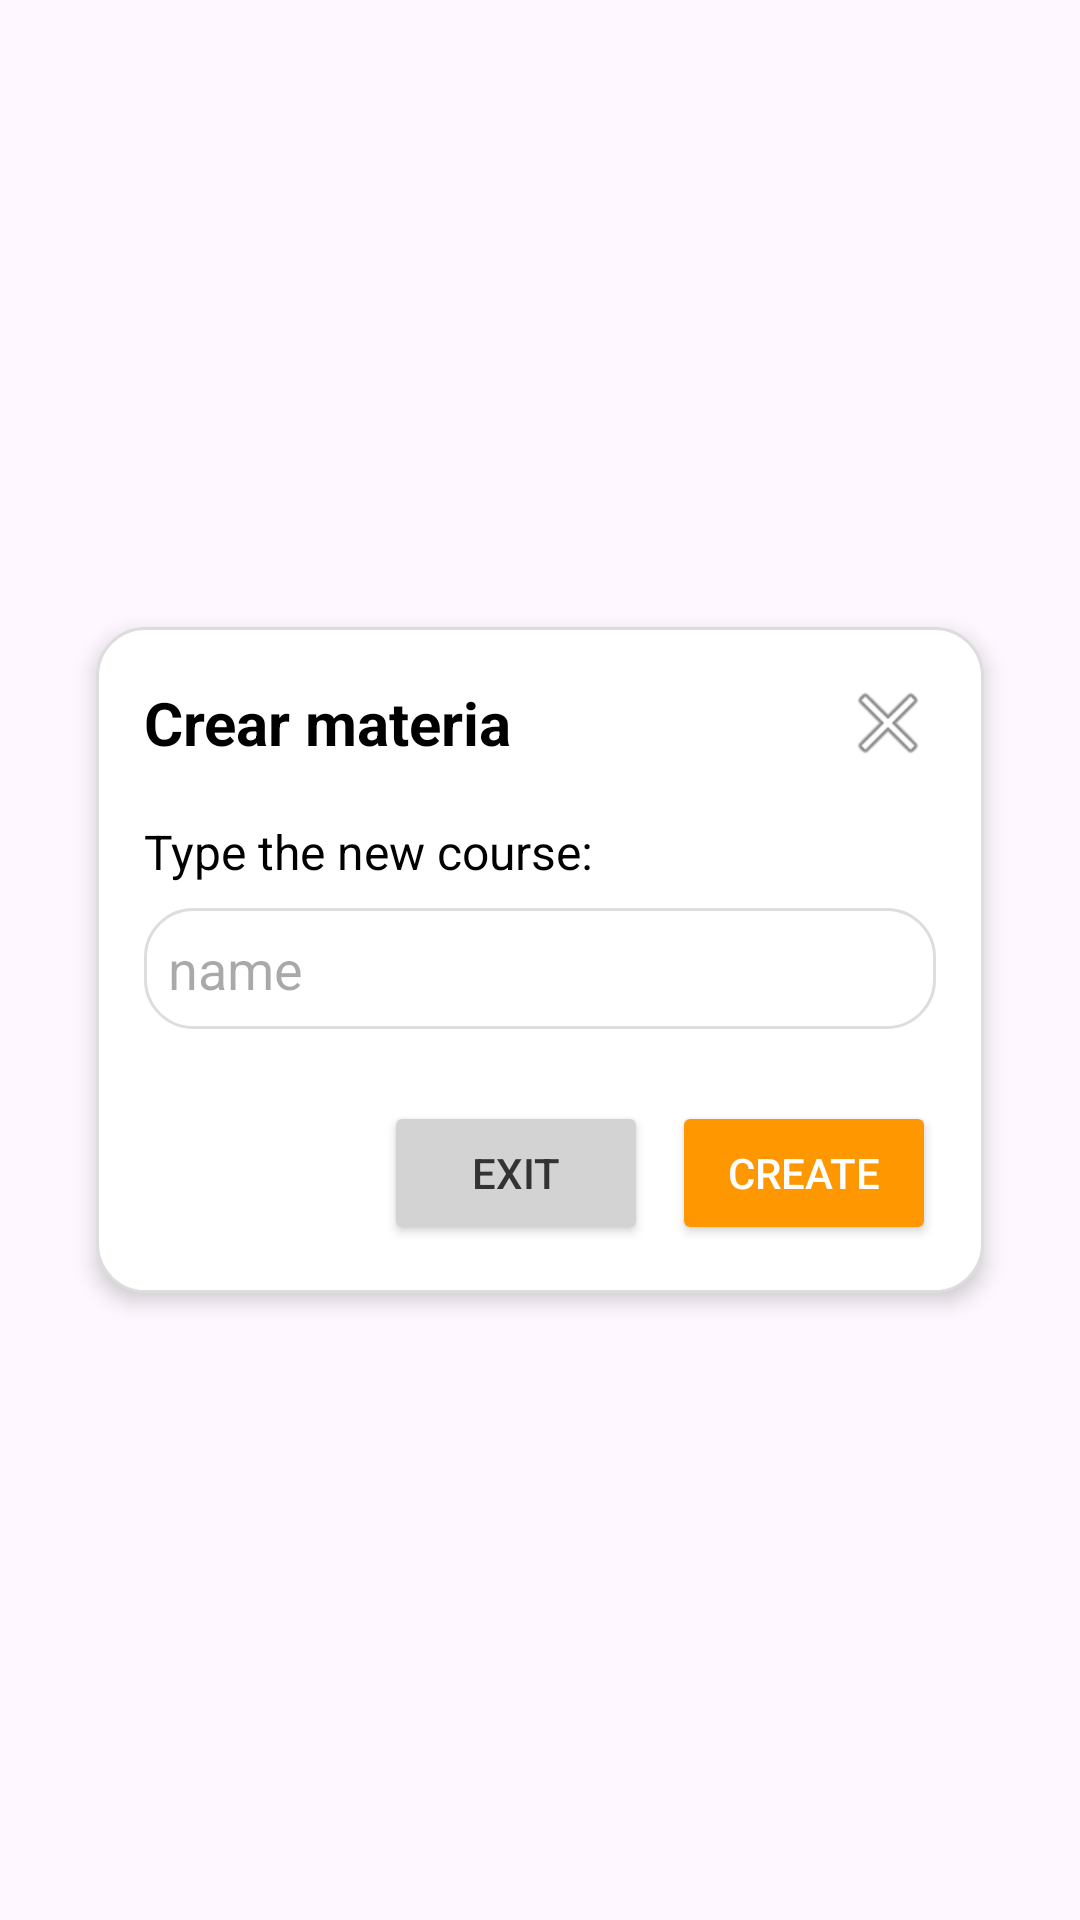

Screen size 1080 x 1920. Icon name, then its center in pixels as (x,y):
close clear cancel: (888,723)
